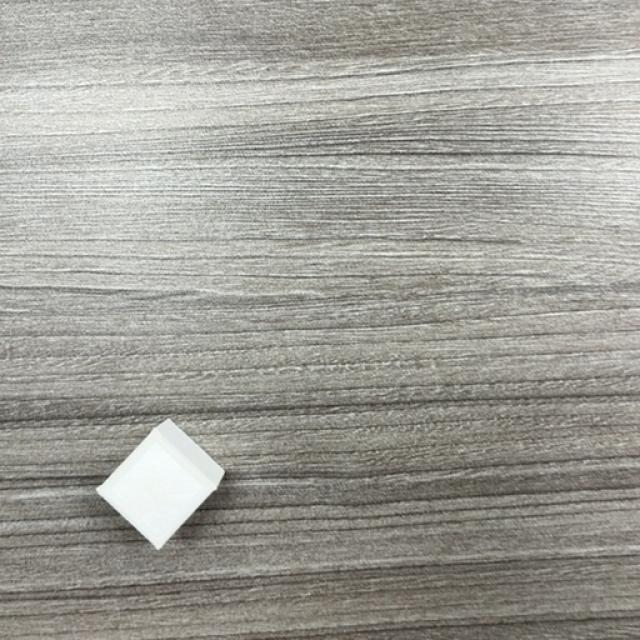Blanco: (95, 420, 225, 551)
